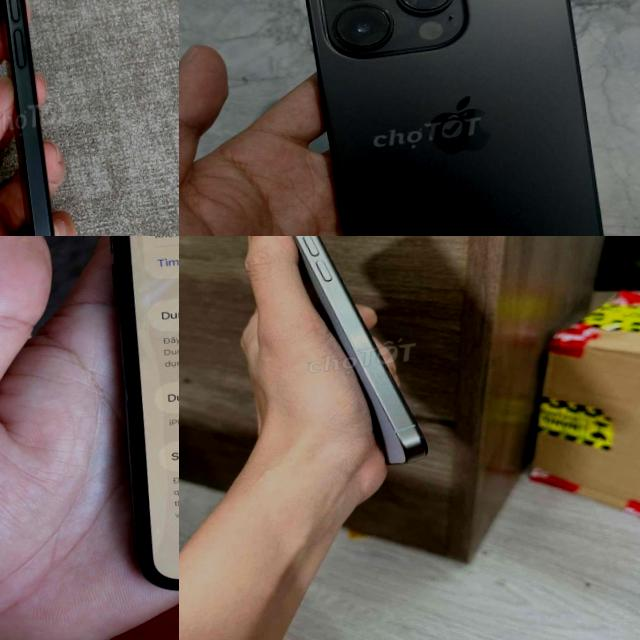gen_11: (110, 236, 179, 588)
gen_14: (277, 0, 635, 236)
gen_15: (236, 236, 440, 487), (0, 0, 87, 236)
